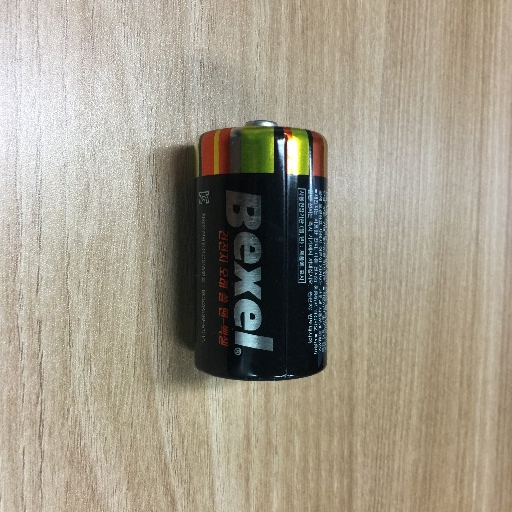Battery_0: (185, 107, 337, 389)
